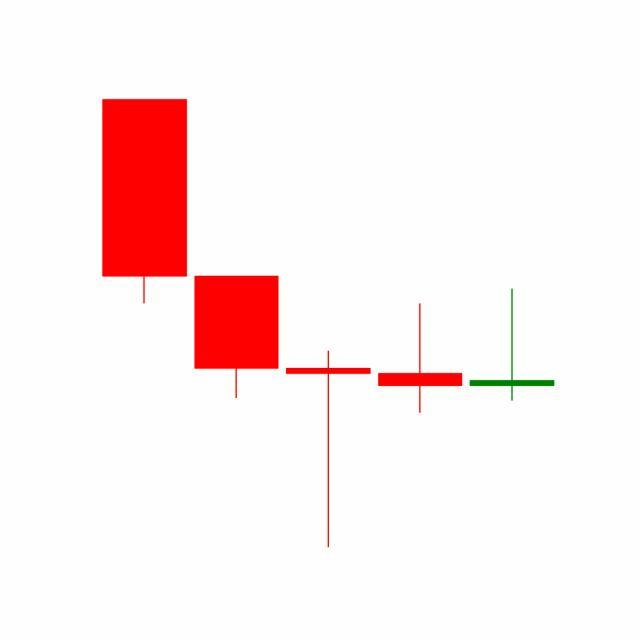Spinning Top: (466, 288, 559, 403)
